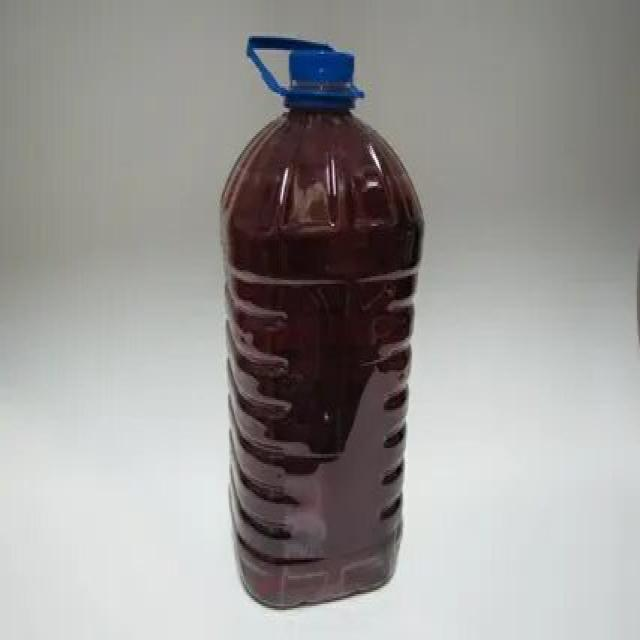brown: (225, 103, 422, 612)
